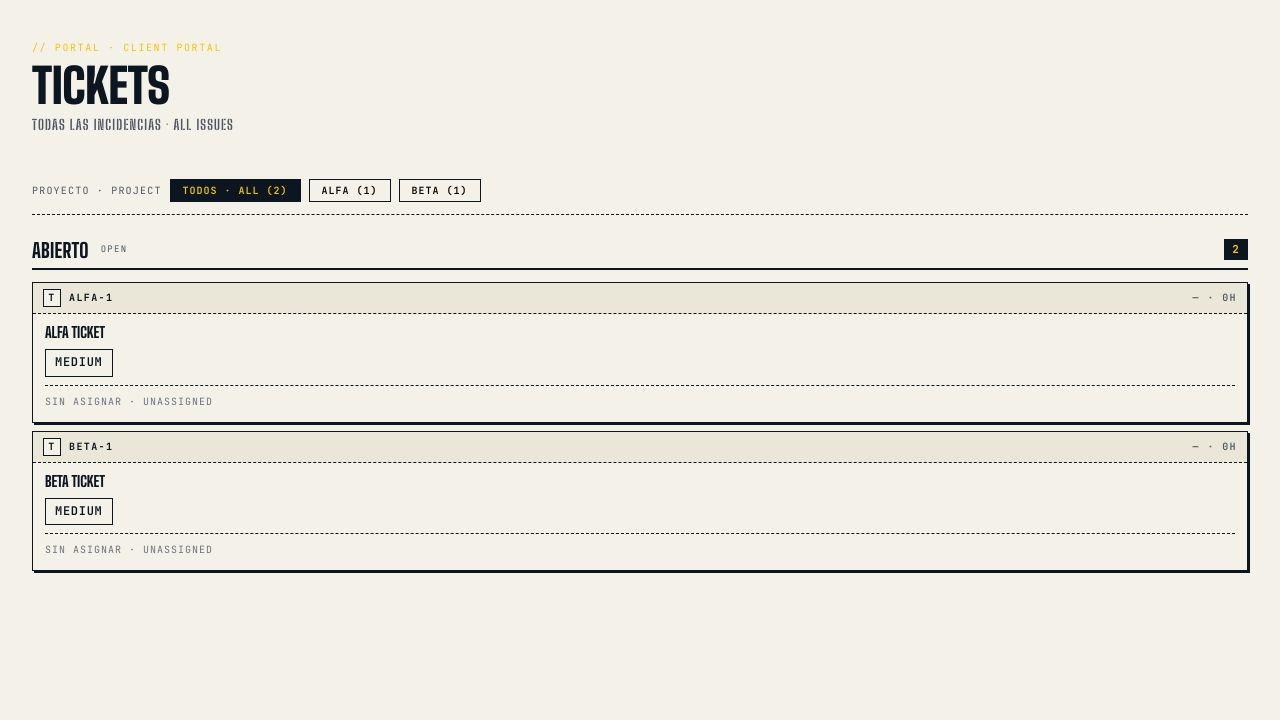
Test case: PortalTicketsPage › filters by project when more than one project is present
Expected: the text "Alfa ticket" is shown, 45,323 -> 105,341
Expected: the text "Beta ticket" is shown, 45,472 -> 105,490
Note: Click the BETA filter pill → only Beta's ticket remains.
Click the button "BETA (1)" at point(440, 191), box 399,179 -> 481,202
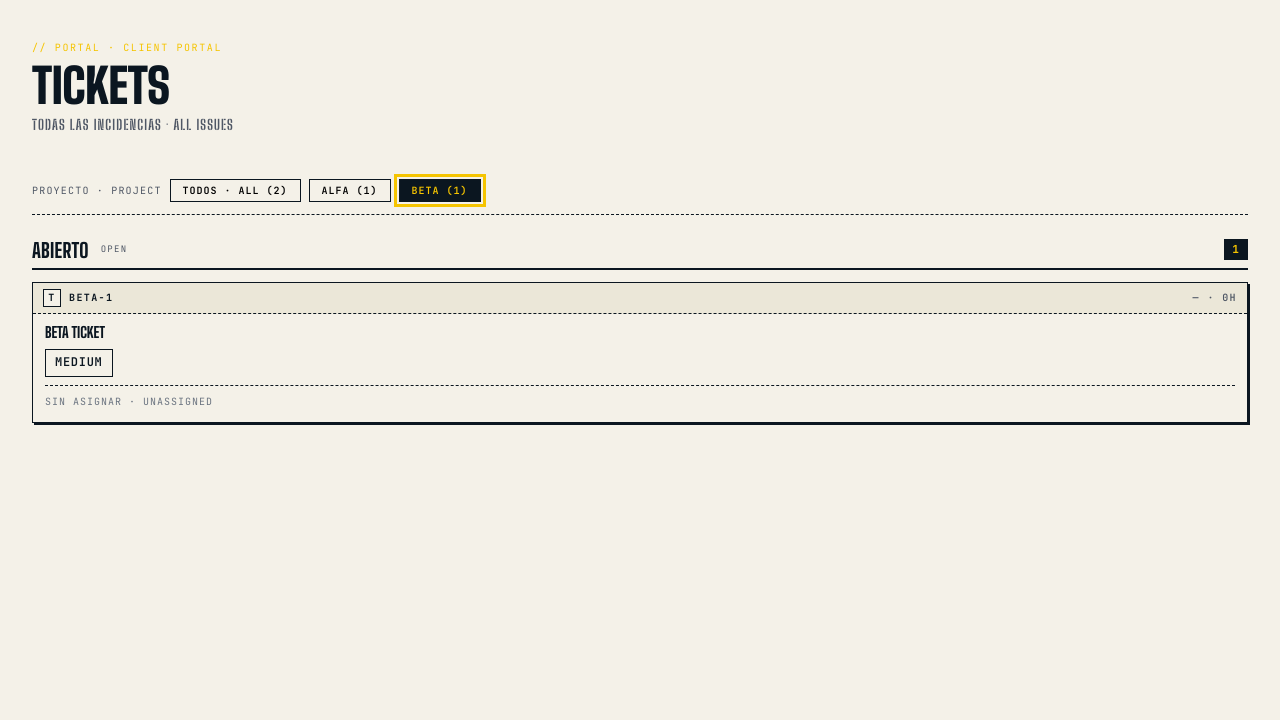
Expected: the text "Beta ticket" is shown, 45,323 -> 105,341
Result: the text "Alfa ticket" is gone
